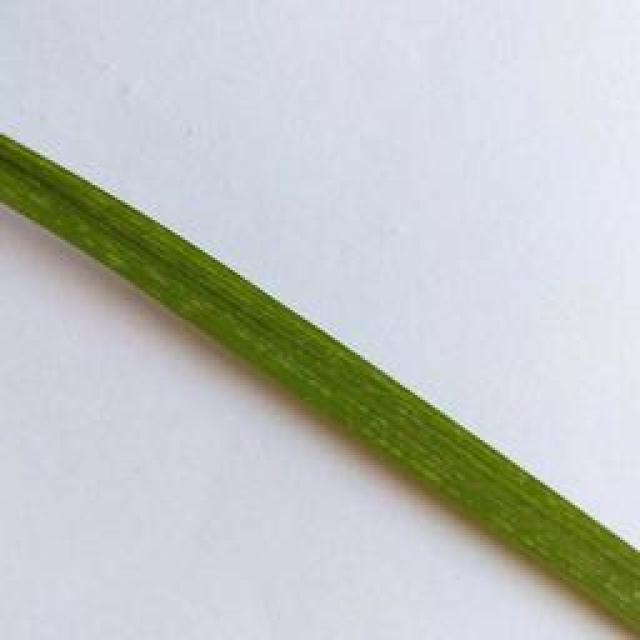Healthy-Plant: (0, 134, 640, 636)
